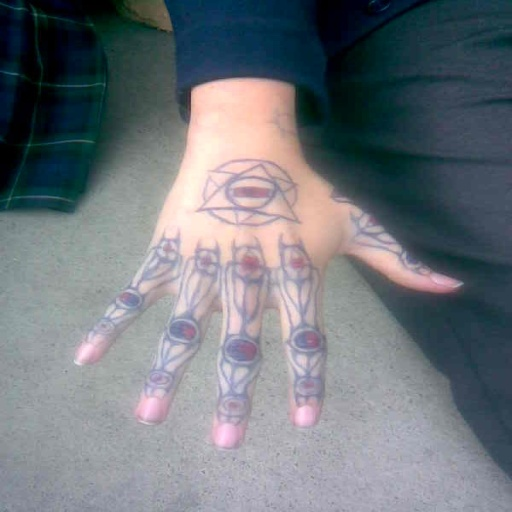hand: (75, 90, 479, 444)
